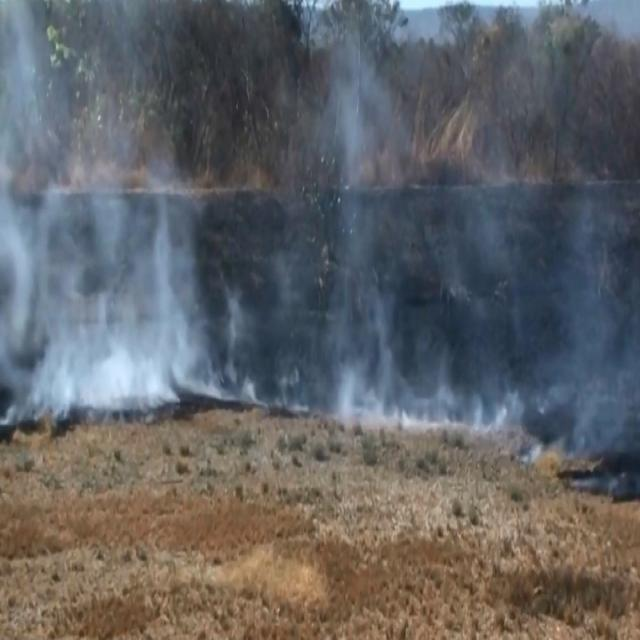Smoke: (9, 40, 632, 418)
